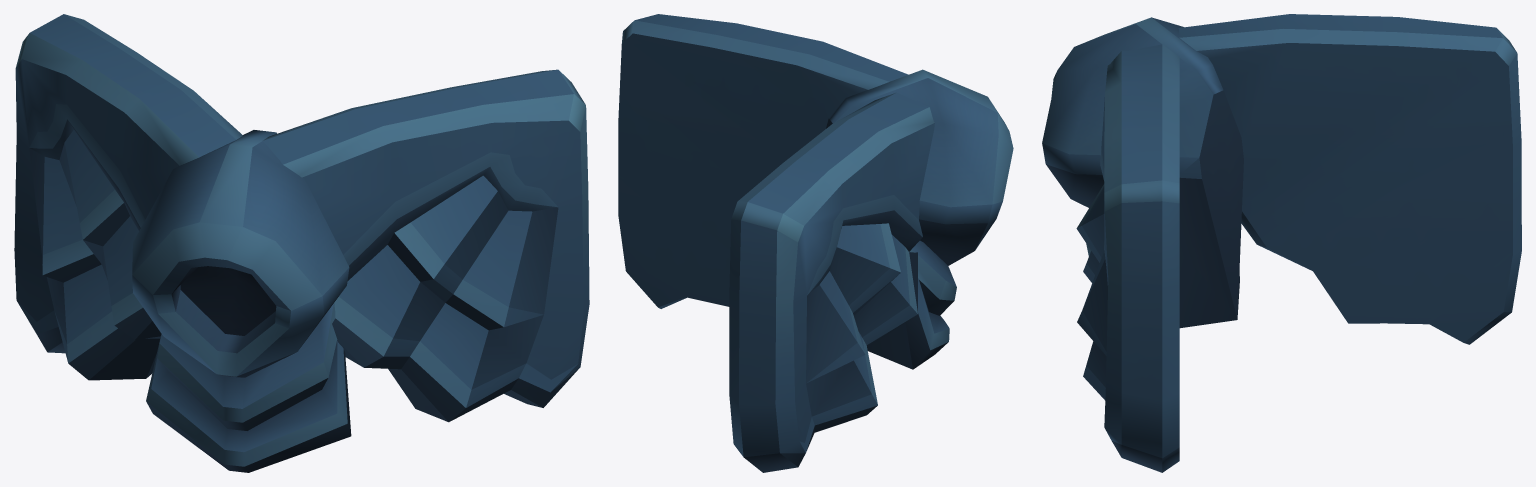
Rendered from corner_ornament_angel.fbx.
The picture shows the model from 3 angles, left to right: view 1: azimuth 30°, elevation 25°; view 2: azimuth 150°, elevation 25°; view 3: azimuth 270°, elevation 25°; orthographic projection. The views are drawn at different scales.
Parts seen in each view (by area): view 1: corner_ornament_angel; view 2: corner_ornament_angel; view 3: corner_ornament_angel.
Part boxes in pixels (box(x1,y1,x2,y2)): corner_ornament_angel: box(14, 14, 589, 472); corner_ornament_angel: box(618, 14, 1013, 472); corner_ornament_angel: box(1042, 14, 1521, 472).
Size of the model in its own units: 127 by 93.74 by 128.
